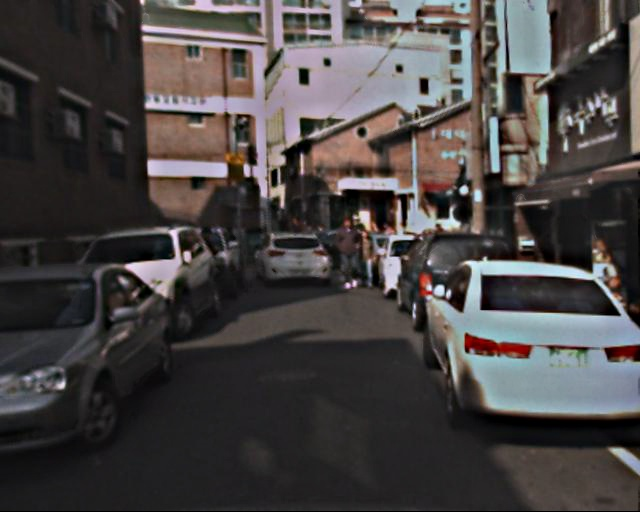person: (332, 217, 362, 291), (352, 223, 379, 290)
